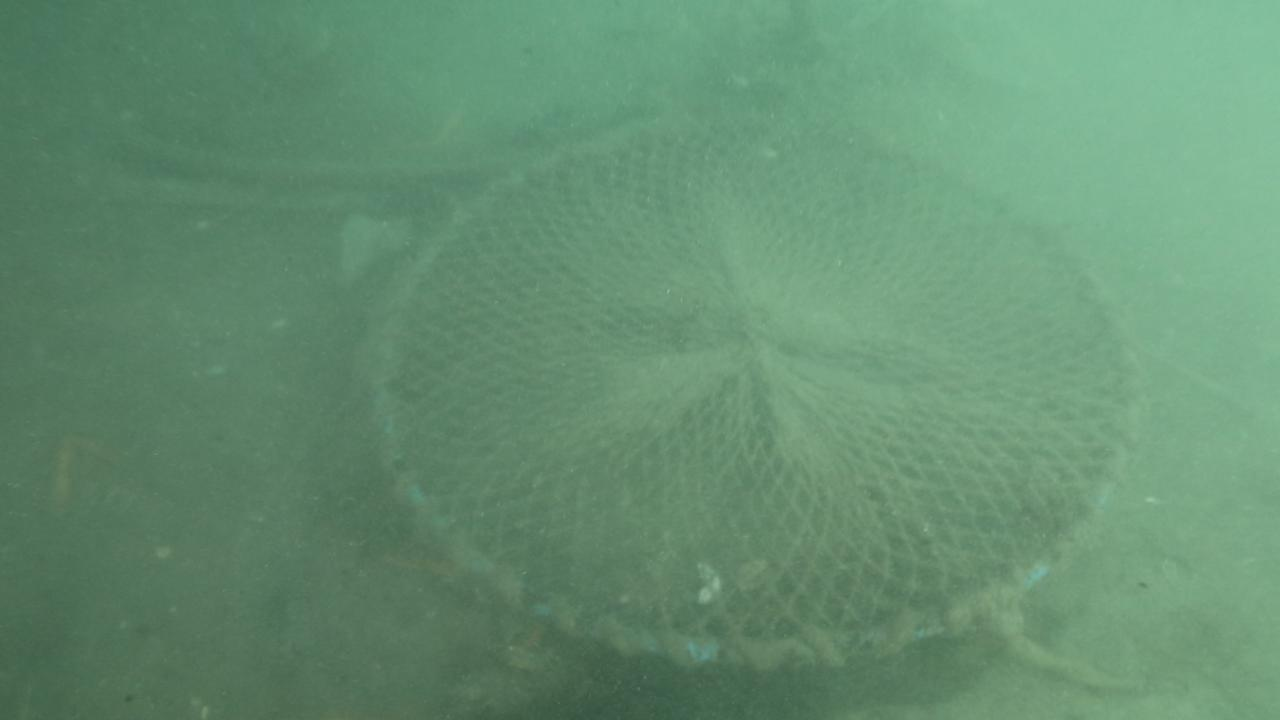bundle of ropes: (978, 584, 1174, 694)
circular fish trap: (360, 105, 1154, 683)
